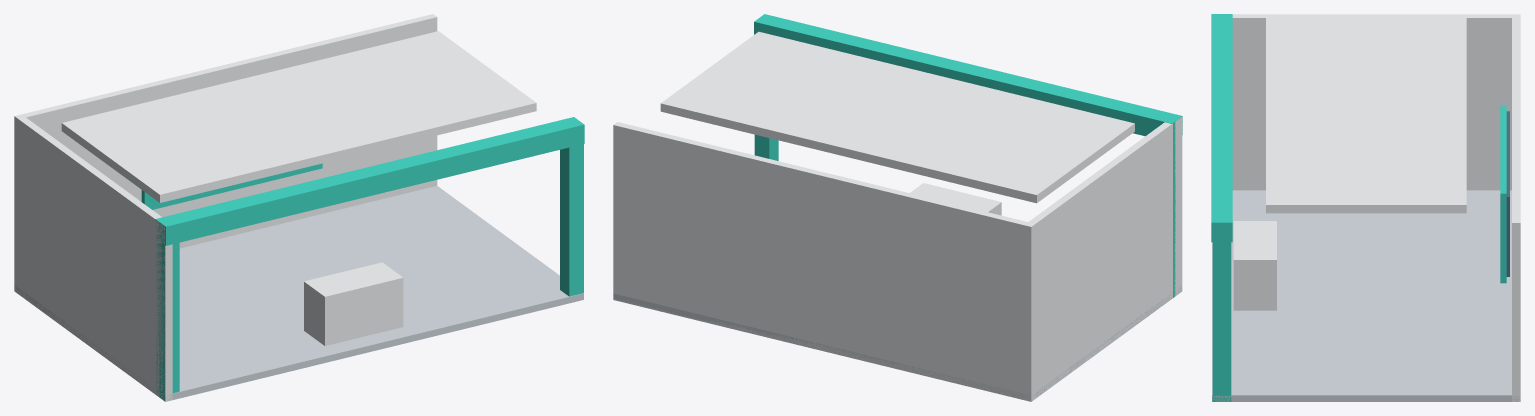
The picture shows the model from 3 angles, left to right: view 1: azimuth 30°, elevation 25°; view 2: azimuth 150°, elevation 25°; view 3: azimuth 270°, elevation 25°; orthographic projection. The views are drawn at different scales.
Parts seen in each view (by area): view 1: Exhibition Booth Concept; view 2: Exhibition Booth Concept; view 3: Exhibition Booth Concept.
Boxes of the visible parts, x1=… form: Exhibition Booth Concept: x1=14, y1=14, x2=584, y2=401; Exhibition Booth Concept: x1=613, y1=14, x2=1182, y2=401; Exhibition Booth Concept: x1=1211, y1=14, x2=1520, y2=401.
Bounding box in the file's own units: 8 × 3.34 × 5.02.
